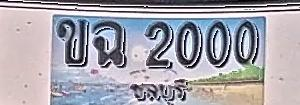0: (176, 21, 202, 68), (206, 20, 230, 68), (234, 19, 259, 65)
2: (146, 20, 173, 68)
A02: (56, 18, 89, 67)
A09: (93, 20, 127, 68)
CBI: (124, 74, 189, 105)
